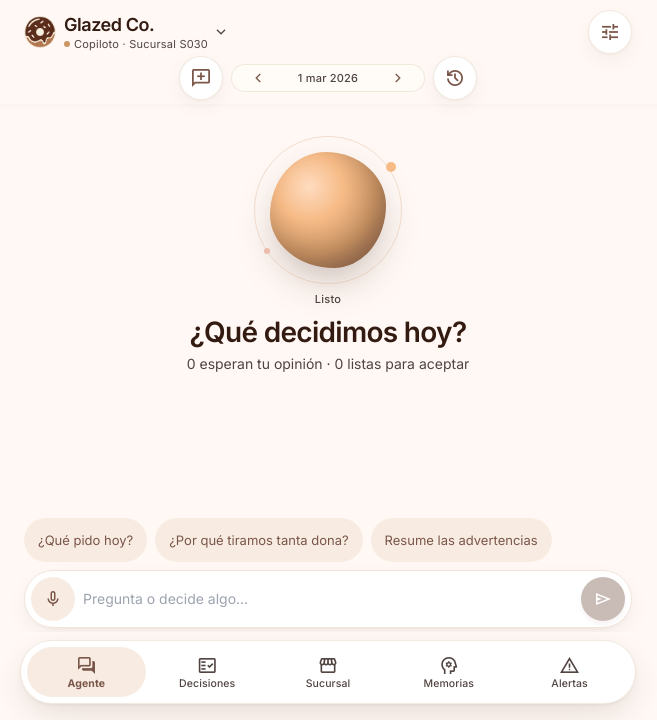
Scenario: Decisiones window › accepts a technical decision with ONE atomic POST /decisions and an idempotency key; removes the card and toasts
This screenshot has width=657, height=720.
Click the button "Decisiones". click: (207, 672)
box: [148, 647, 267, 697]
(page scrolled)
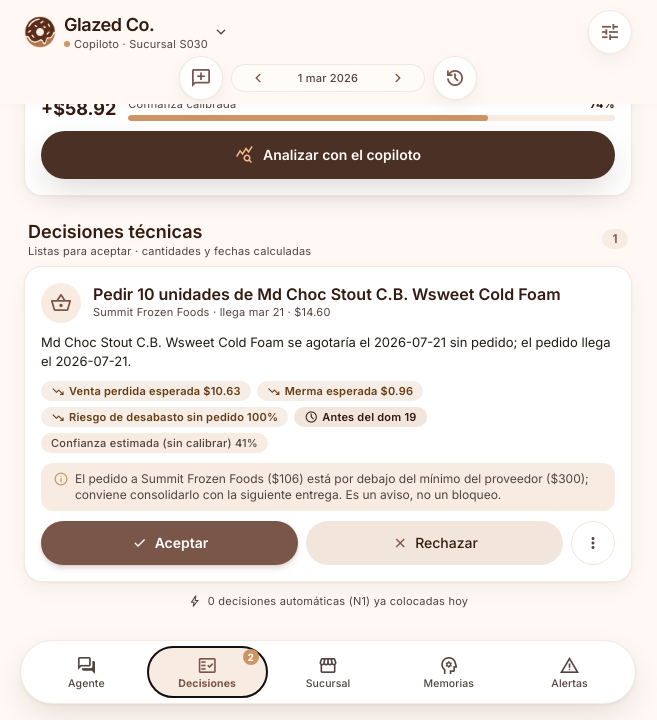
Click the button "Aceptar". click: (170, 543)
box: [41, 521, 298, 565]
(page scrolled)
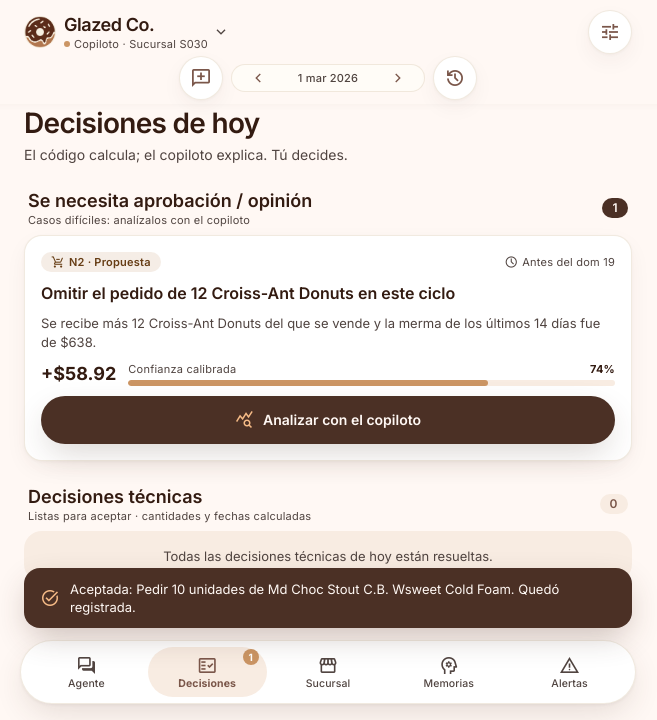
Expected: the message shows "Aceptada: Pedir 10 unidades de Md Choc Stout C.B. Wsweet Cold Foam", [70, 581, 559, 615]
Expected: the text "1 aceptada por ti" is shown, [418, 594, 518, 608]
